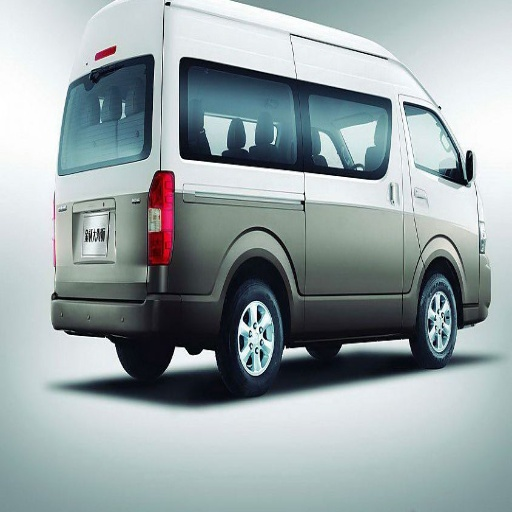back_bumper: (51, 273, 190, 335)
back_right_door: (194, 70, 287, 149), (391, 92, 436, 187)
tailgate: (53, 160, 141, 267)
trunk: (64, 164, 311, 329), (320, 220, 389, 271)
